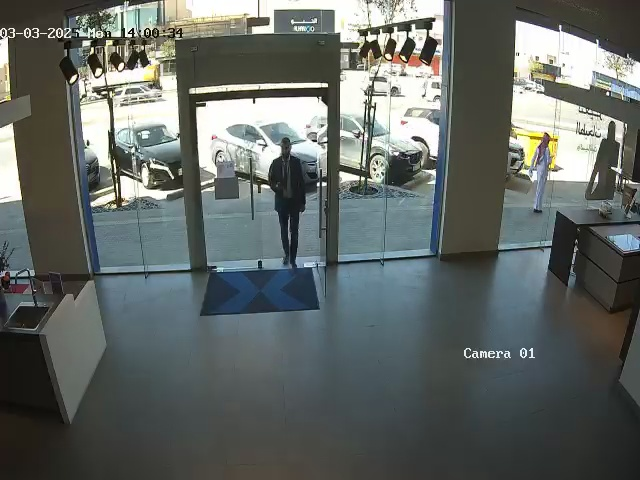female: (528, 132, 552, 213)
male: (268, 136, 307, 269)
